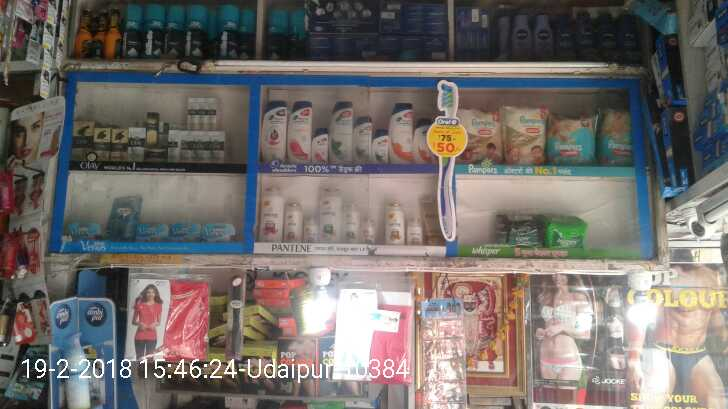ambipureVesus: (51, 295, 118, 409)
gillete: (123, 5, 147, 55), (147, 5, 170, 55), (185, 11, 208, 58), (268, 9, 289, 56), (219, 10, 240, 56), (289, 9, 306, 58), (170, 5, 185, 58), (240, 9, 253, 57), (209, 11, 219, 56)
venus: (112, 196, 138, 237), (201, 222, 235, 240), (66, 221, 102, 238), (171, 223, 201, 240), (138, 223, 171, 237)
